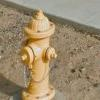Hydrant: (16, 4, 61, 100)
